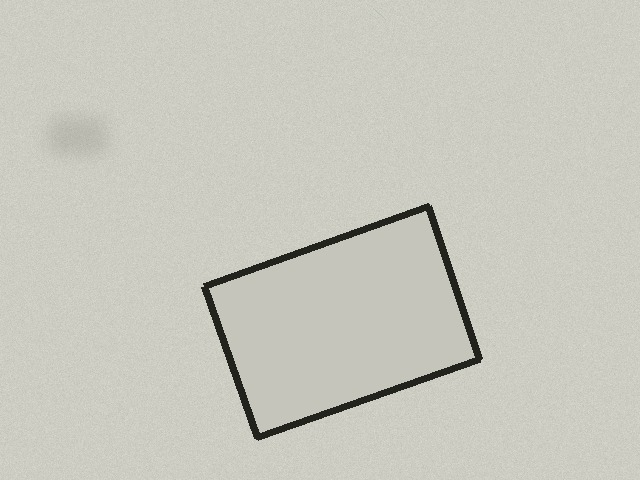parking_area: (204, 206, 479, 437)
